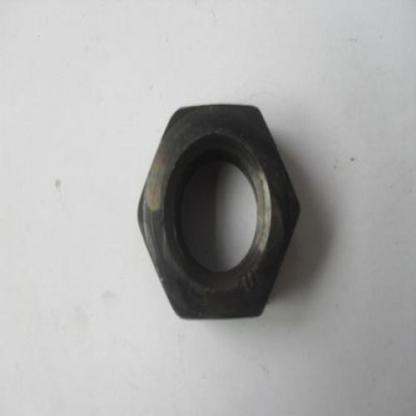FOD: (136, 100, 302, 322)
